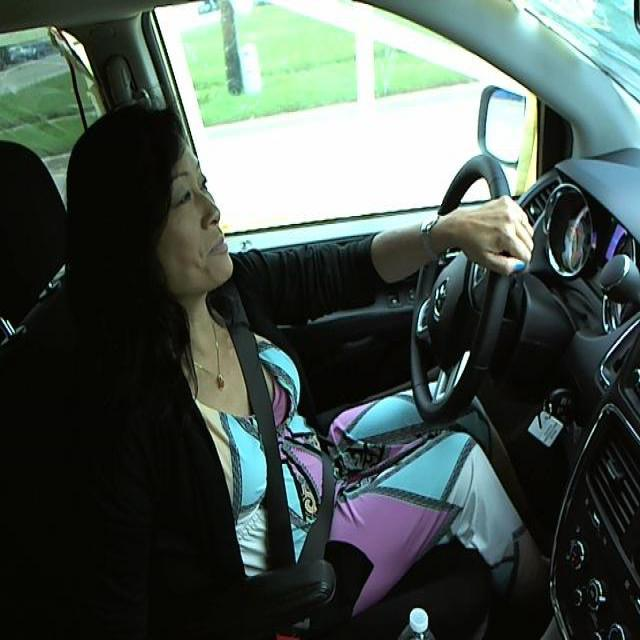seatbelt: (224, 304, 337, 549)
